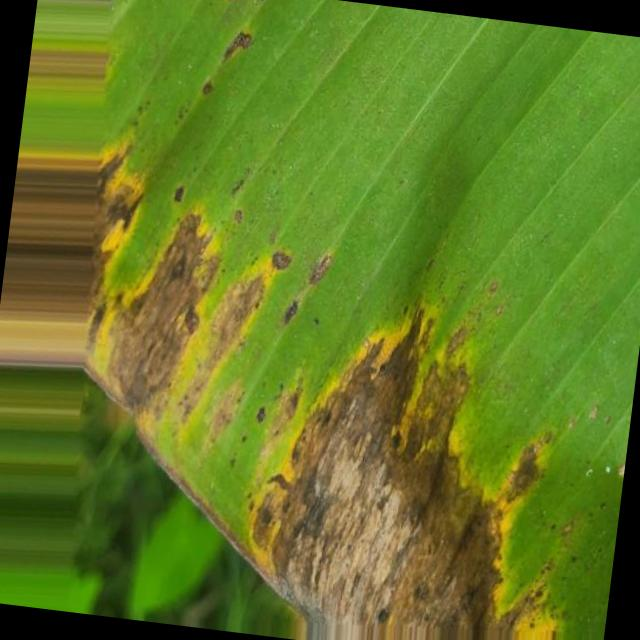Banana_Black_Sigatoka: (257, 287, 603, 640), (70, 104, 296, 452)
